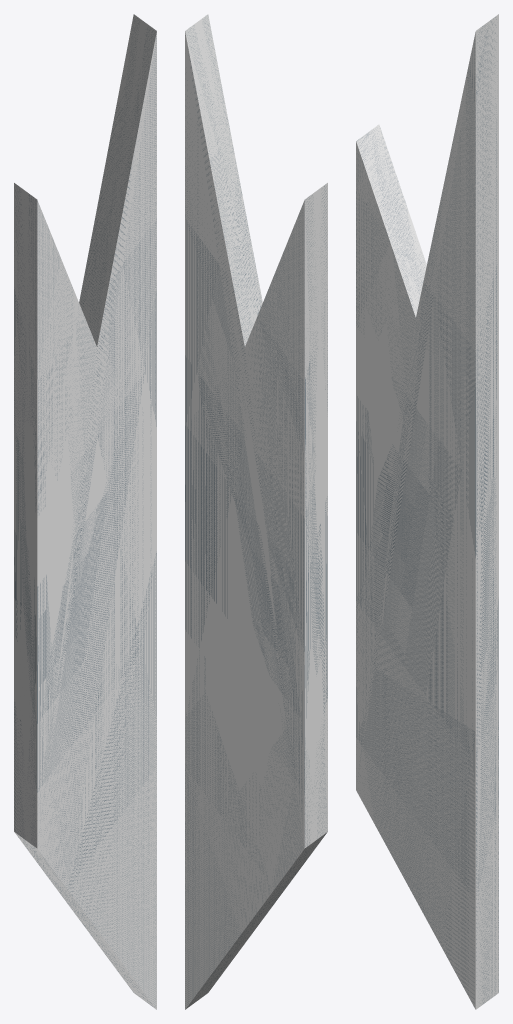
File: senti-mesh-hate-2.dae
3 views of the same model, side by side, from view 1: azimuth 30°, elevation 25°; view 2: azimuth 150°, elevation 25°; view 3: azimuth 330°, elevation 25° (orthographic).
Visible parts, largest first — view 1: group_0; view 2: group_0; view 3: group_0.
Boxes of the visible parts, box(x1,y1,x2,y2) form: group_0: box(14, 14, 156, 1009); group_0: box(185, 14, 327, 1009); group_0: box(356, 14, 498, 1009).
Bounding box in the file's own units: 2.75 × 0.9218 × 21.47.
